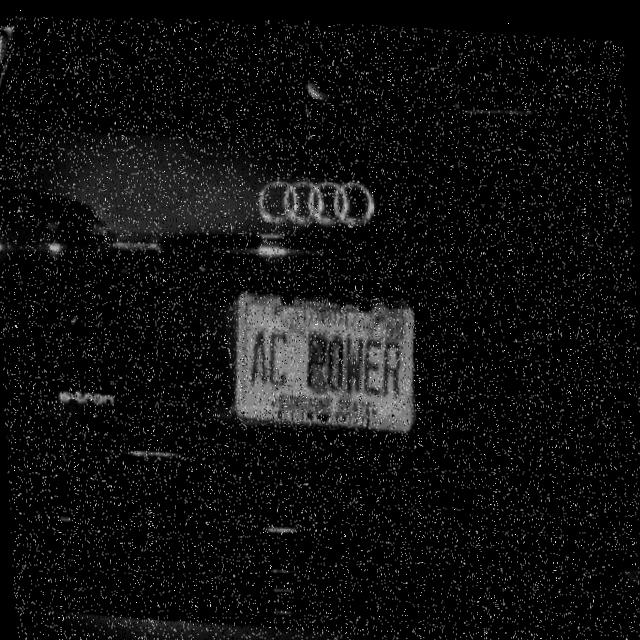LicensePlate: (231, 286, 417, 431)
